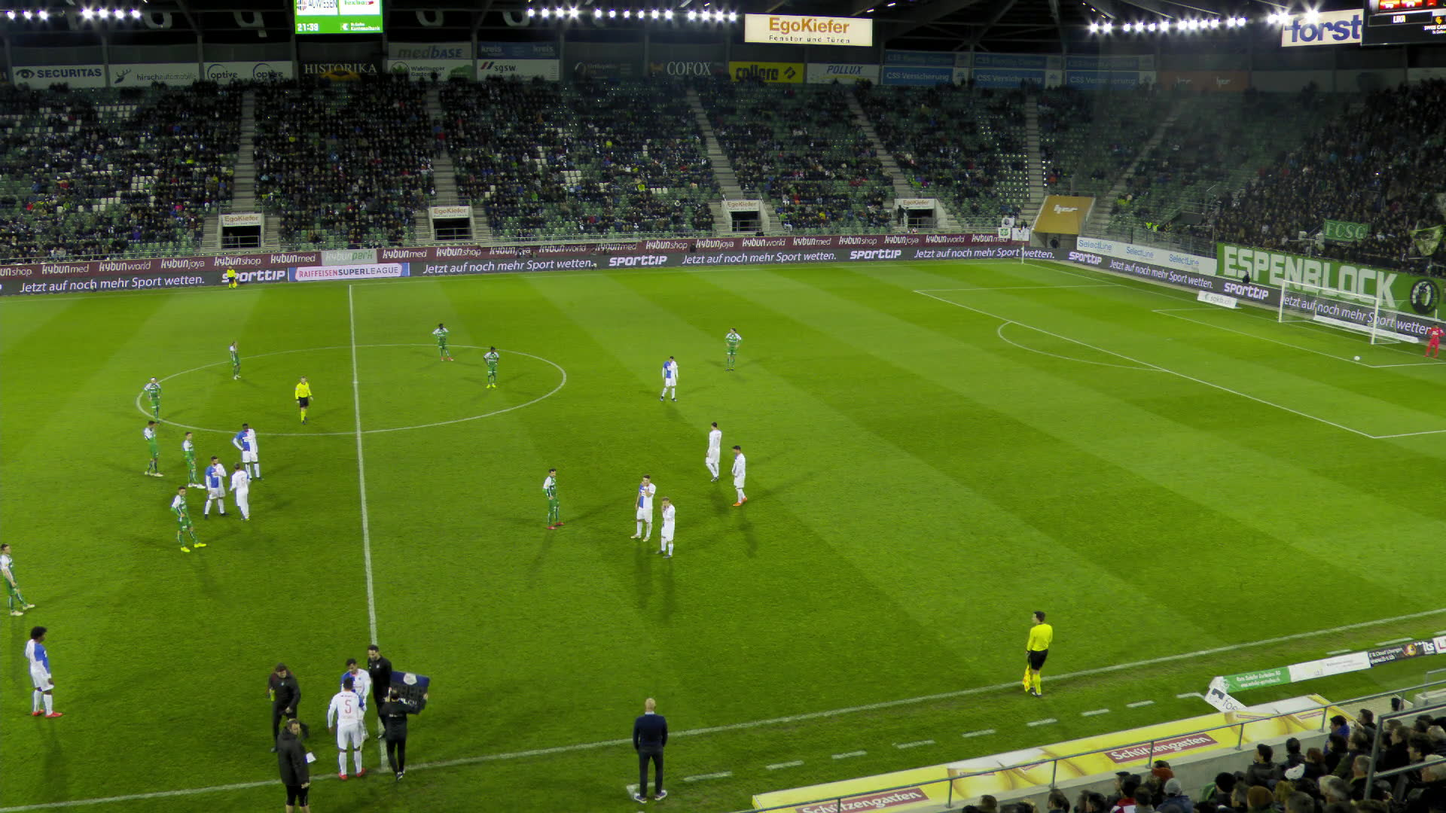ball: (352, 645, 401, 760), (379, 690, 427, 781), (264, 660, 308, 752), (1354, 355, 1359, 359)
player: (327, 677, 365, 779), (25, 627, 60, 717), (340, 659, 371, 738), (0, 543, 34, 614), (170, 486, 206, 551), (231, 421, 265, 484), (200, 455, 230, 519), (630, 474, 657, 540), (654, 493, 679, 559), (541, 467, 566, 530), (728, 442, 752, 507), (229, 461, 252, 522), (142, 414, 163, 477), (183, 431, 205, 489), (704, 422, 721, 481), (658, 354, 679, 401), (480, 347, 502, 389), (432, 323, 455, 362), (142, 377, 160, 423), (227, 342, 248, 380), (1422, 323, 1443, 357), (725, 327, 741, 370)
referee: (1020, 609, 1054, 697), (294, 373, 313, 425), (224, 264, 236, 289)
